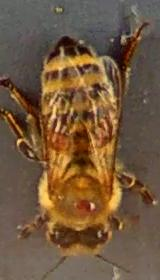varroa_mite: (38, 120, 78, 154), (70, 190, 104, 221)
